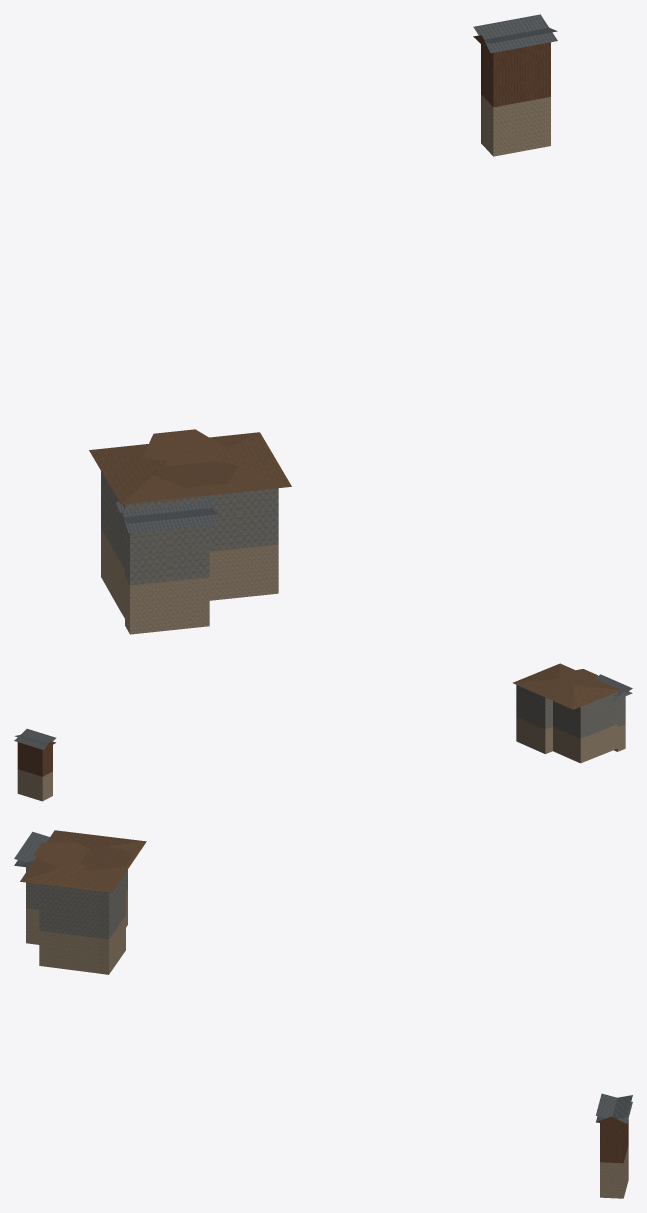
The model's file is bld_c22_46_395.gltf.
3 views of the same model, one above another, from view 1: azimuth 30°, elevation 25°; view 2: azimuth 150°, elevation 25°; view 3: azimuth 270°, elevation 25° (orthographic). The views are drawn at different scales.
Parts seen in each view (by area): view 1: bld_c22_46_395; view 2: bld_c22_46_395; view 3: bld_c22_46_395.
Boxes of the visible parts, x1,y1,x2,y2 form: bld_c22_46_395: (89,14,557,634); bld_c22_46_395: (14,663,632,801); bld_c22_46_395: (14,830,632,1198).
Size of the model in its own units: 89.45 by 13.8 by 80.76.
7 materials, 7 textured.
